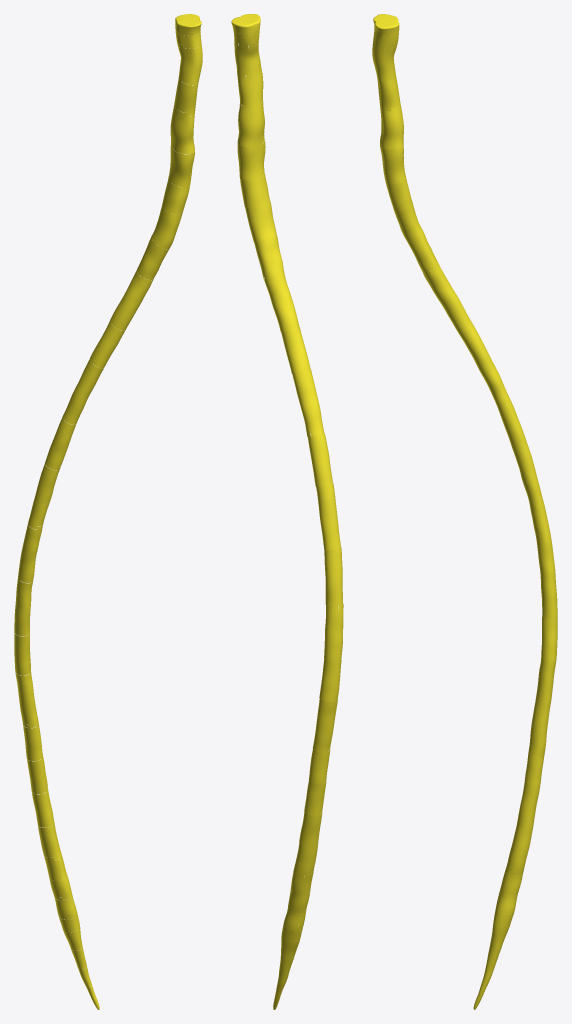
The model's file is 3d-vh-m-spinal-cord.glb.
The picture shows the model from 3 angles, left to right: view 1: azimuth 90°, elevation 25°; view 2: azimuth 210°, elevation 25°; view 3: azimuth 270°, elevation 25°; orthographic projection. The views are drawn at different scales.
Visible parts, largest first — view 1: VH_M_second_thoracic_spinal_cord_segment, VH_M_fourth_thoracic_spinal_cord_segment, VH_M_sixth_thoracic_spinal_cord_segment, VH_M_C5_segment_of_cervical_spinal_cord, VH_M_seventh_thoracic_spinal_cord_segment, VH_M_eighth_thoracic_spinal_cord_segment, VH_M_tenth_thoracic_spinal_cord_segment, VH_M_C3_segment_of_cervical_spinal_cord, VH_M_fifth_thoracic_spinal_cord_segment, VH_M_C8_segment_of_cervical_spinal_cord, VH_M_C6_segment_of_cervical_spinal_cord, VH_M_third_thoracic_spinal_cord_segment (+9 smaller); view 2: VH_M_fourth_thoracic_spinal_cord_segment, VH_M_second_thoracic_spinal_cord_segment, VH_M_sixth_thoracic_spinal_cord_segment, VH_M_C5_segment_of_cervical_spinal_cord, VH_M_seventh_thoracic_spinal_cord_segment, VH_M_eighth_thoracic_spinal_cord_segment, VH_M_fifth_thoracic_spinal_cord_segment, VH_M_tenth_thoracic_spinal_cord_segment, VH_M_C8_segment_of_cervical_spinal_cord, VH_M_C6_segment_of_cervical_spinal_cord, VH_M_third_thoracic_spinal_cord_segment, VH_M_first_thoracic_spinal_cord_segment (+13 smaller); view 3: VH_M_second_thoracic_spinal_cord_segment, VH_M_fourth_thoracic_spinal_cord_segment, VH_M_sixth_thoracic_spinal_cord_segment, VH_M_C5_segment_of_cervical_spinal_cord, VH_M_tenth_thoracic_spinal_cord_segment, VH_M_seventh_thoracic_spinal_cord_segment, VH_M_eighth_thoracic_spinal_cord_segment, VH_M_fifth_thoracic_spinal_cord_segment, VH_M_C6_segment_of_cervical_spinal_cord, VH_M_C3_segment_of_cervical_spinal_cord, VH_M_third_thoracic_spinal_cord_segment, VH_M_ninth_thoracic_spinal_cord_segment (+9 smaller).
Part boxes in pixels (x1,y1,x2,y2): VH_M_second_thoracic_spinal_cord_segment: (110,270,152,330); VH_M_fourth_thoracic_spinal_cord_segment: (62,359,103,424); VH_M_sixth_thoracic_spinal_cord_segment: (28,464,60,529); VH_M_C5_segment_of_cervical_spinal_cord: (170,105,194,153); VH_M_seventh_thoracic_spinal_cord_segment: (18,524,42,582); VH_M_eighth_thoracic_spinal_cord_segment: (14,578,32,636); VH_M_tenth_thoracic_spinal_cord_segment: (15,670,38,728); VH_M_C3_segment_of_cervical_spinal_cord: (177,42,202,85); VH_M_fifth_thoracic_spinal_cord_segment: (45,417,75,470); VH_M_C8_segment_of_cervical_spinal_cord: (151,206,182,249); VH_M_C6_segment_of_cervical_spinal_cord: (168,146,194,187); VH_M_third_thoracic_spinal_cord_segment: (89,321,124,368); VH_M_fourth_thoracic_spinal_cord_segment: (292,369,324,436); VH_M_second_thoracic_spinal_cord_segment: (264,271,299,331); VH_M_sixth_thoracic_spinal_cord_segment: (316,483,340,550); VH_M_C5_segment_of_cervical_spinal_cord: (237,101,264,147); VH_M_seventh_thoracic_spinal_cord_segment: (324,547,342,609); VH_M_eighth_thoracic_spinal_cord_segment: (324,604,343,661); VH_M_fifth_thoracic_spinal_cord_segment: (307,433,332,486); VH_M_tenth_thoracic_spinal_cord_segment: (313,699,337,752); VH_M_C8_segment_of_cervical_spinal_cord: (245,201,276,241); VH_M_C6_segment_of_cervical_spinal_cord: (237,141,265,179); VH_M_third_thoracic_spinal_cord_segment: (281,327,310,373); VH_M_first_thoracic_spinal_cord_segment: (254,236,283,280); VH_M_second_thoracic_spinal_cord_segment: (422,261,463,317); VH_M_fourth_thoracic_spinal_cord_segment: (470,343,510,406); VH_M_sixth_thoracic_spinal_cord_segment: (512,445,544,509); VH_M_C5_segment_of_cervical_spinal_cord: (380,103,403,149); VH_M_tenth_thoracic_spinal_cord_segment: (533,658,556,716); VH_M_seventh_thoracic_spinal_cord_segment: (529,502,554,564); VH_M_eighth_thoracic_spinal_cord_segment: (539,562,557,618); VH_M_fifth_thoracic_spinal_cord_segment: (497,399,527,450); VH_M_C6_segment_of_cervical_spinal_cord: (380,143,405,183); VH_M_C3_segment_of_cervical_spinal_cord: (372,41,396,81); VH_M_third_thoracic_spinal_cord_segment: (449,308,483,352); VH_M_ninth_thoracic_spinal_cord_segment: (541,614,557,661).
Size of the model in its own units: 0.0207 by 0.4652 by 0.0796.
